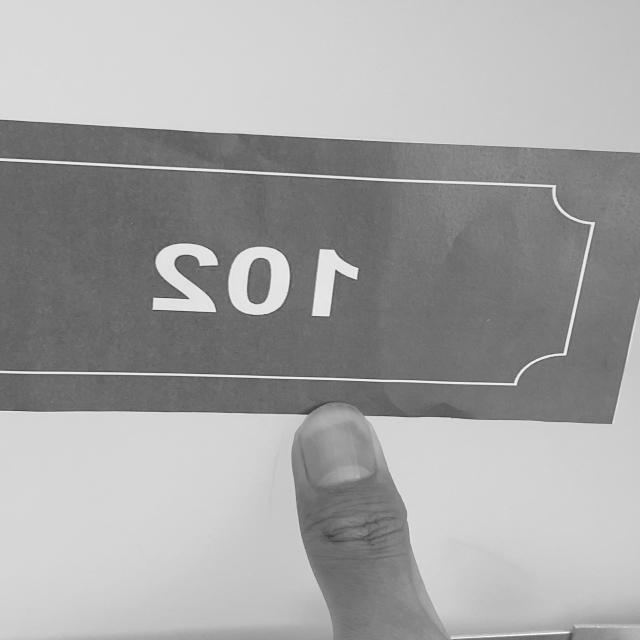Card: (0, 96, 640, 442)
